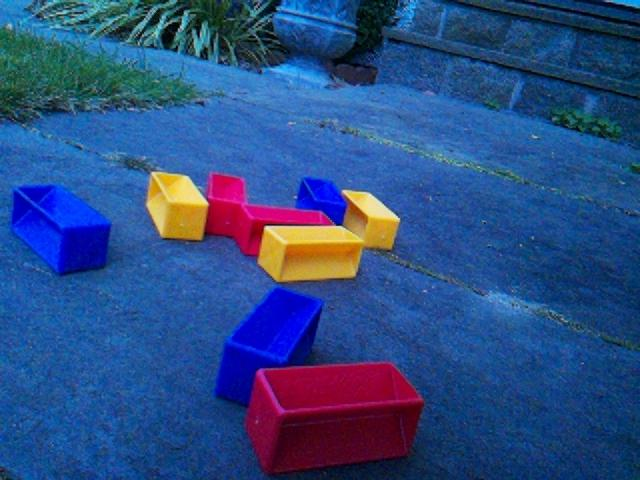blue: (213, 285, 325, 407), (10, 181, 113, 276), (295, 175, 349, 226)
red: (244, 360, 425, 475), (234, 203, 334, 257), (205, 170, 249, 238)
yellow: (257, 223, 365, 283), (145, 170, 210, 242), (341, 188, 401, 251)
